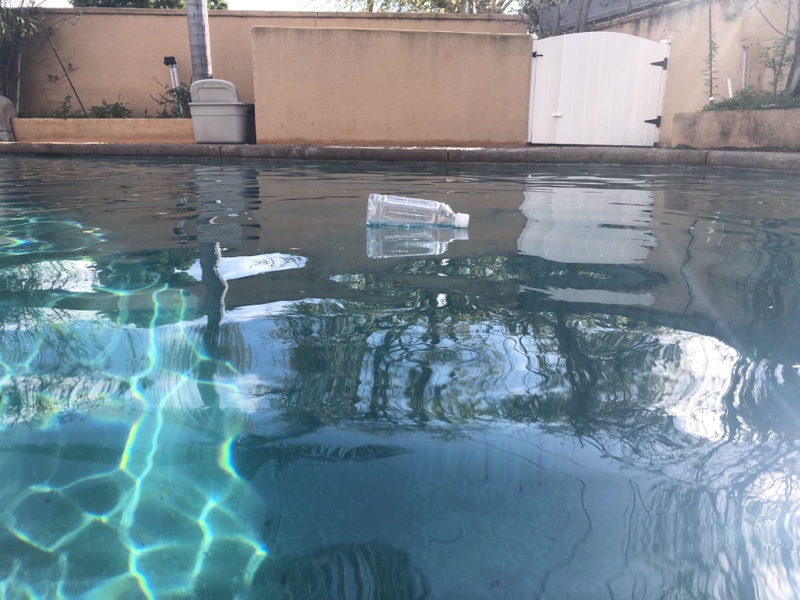Plastic Bottle: (364, 189, 474, 235)
